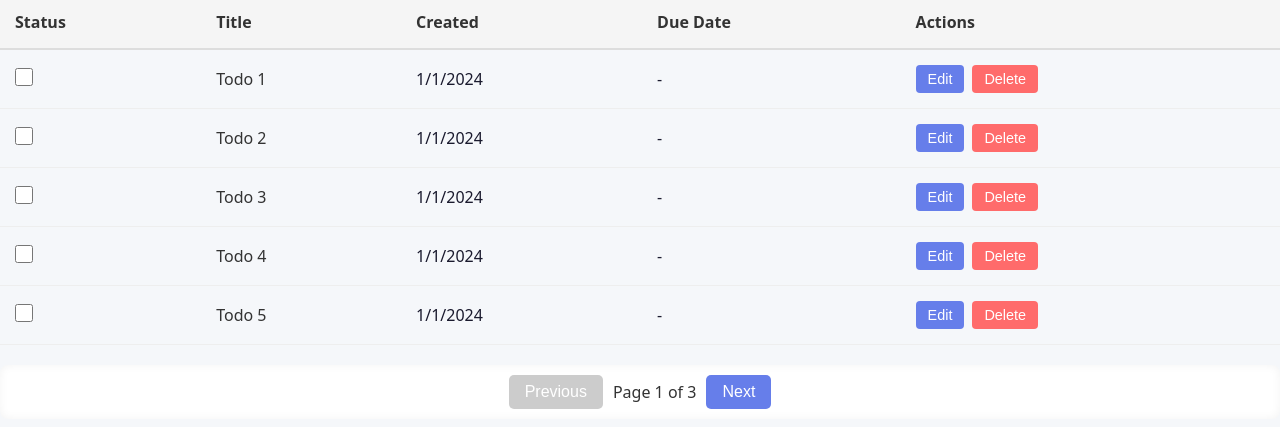
Test: TodosTable › pagination › should disable next button on last page
Navigate to last page (page 3)
Click the button with aria-label "Next page": (739, 392) [706,375,771,409]
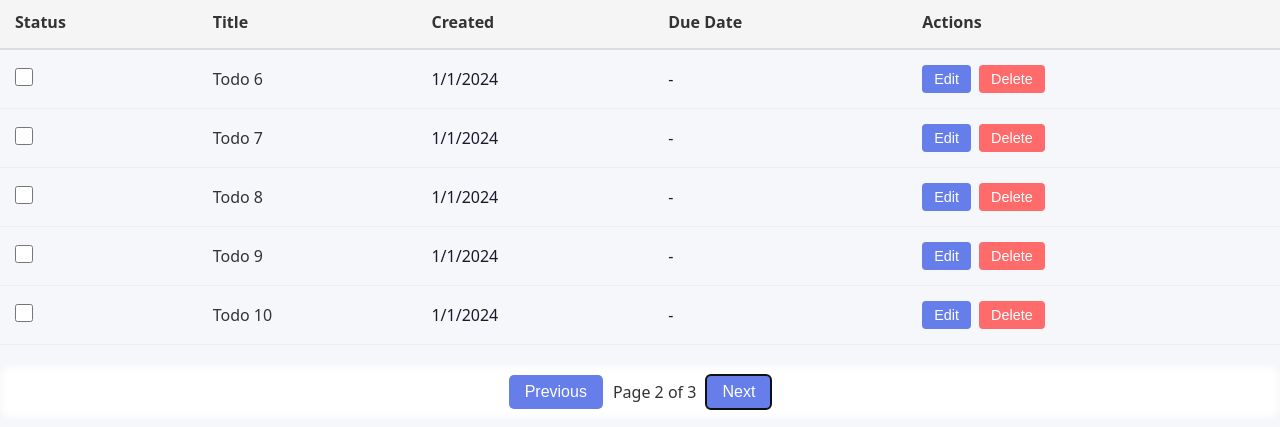
Click the button with aria-label "Next page": (739, 392) [706,375,771,409]
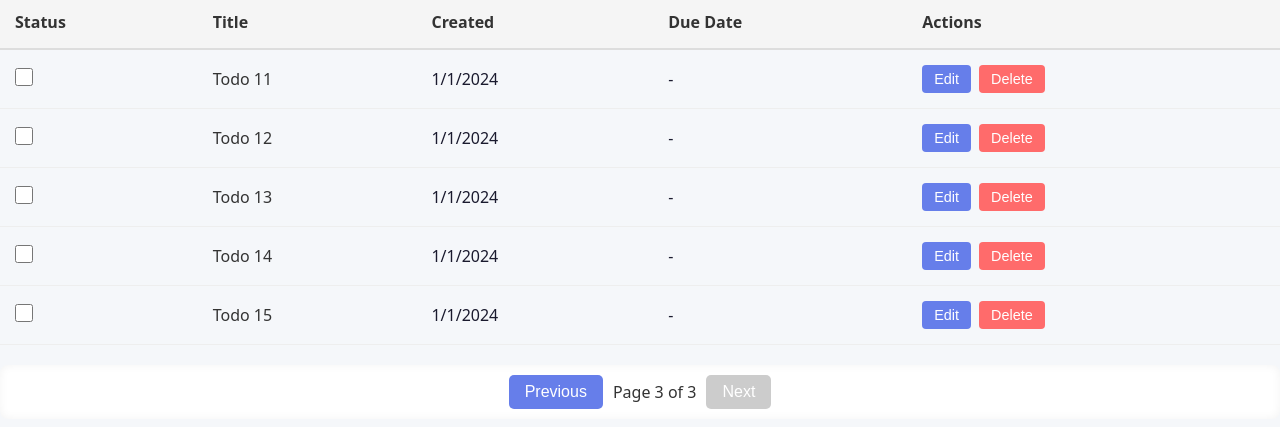
Expected: the text "Page 3 of 3" is shown, [613,381,696,403]
Expected: the button with aria-label "Next page" is disabled, [706,375,771,409]
